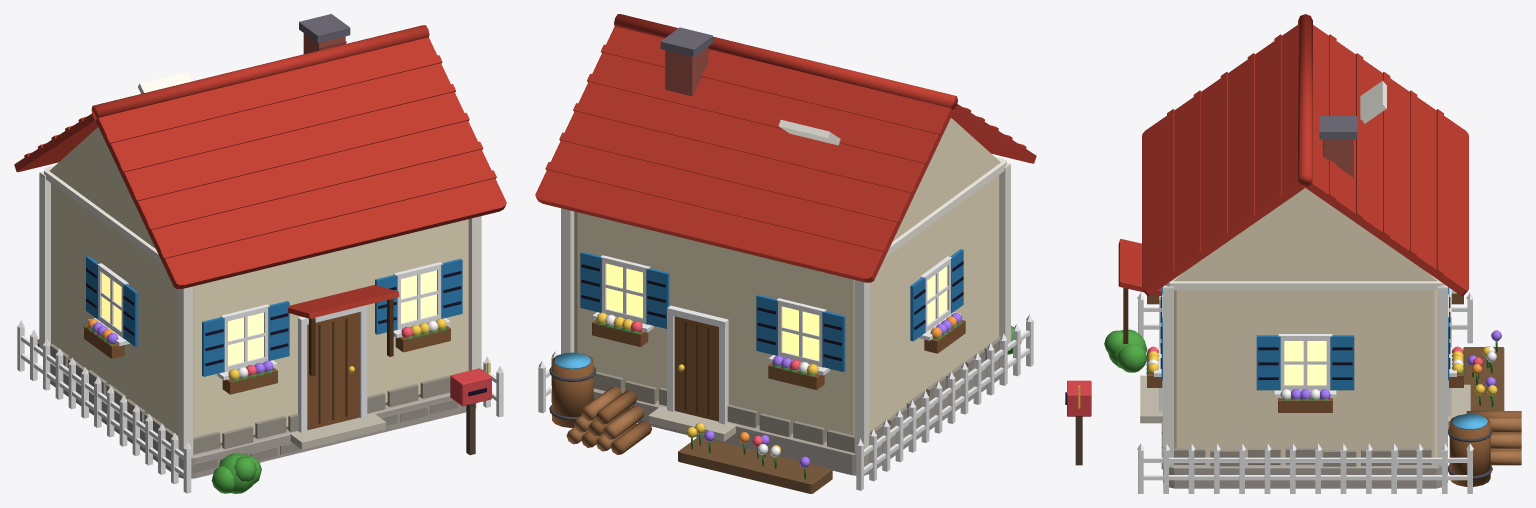
The model's file is domek1.glb.
3 views of the same model, side by side, from view 1: azimuth 30°, elevation 25°; view 2: azimuth 150°, elevation 25°; view 3: azimuth 270°, elevation 25° (orthographic). The views are drawn at different scales.
Parts seen in each view (by area): view 1: domek1; view 2: domek1; view 3: domek1.
Part boxes in pixels (bbox=[...]): domek1: bbox=[14, 14, 506, 493]; domek1: bbox=[535, 14, 1036, 493]; domek1: bbox=[1065, 14, 1521, 493].
Bounding box in the file's own units: 5.54 × 5.43 × 6.65.
2 materials, 2 textured.
